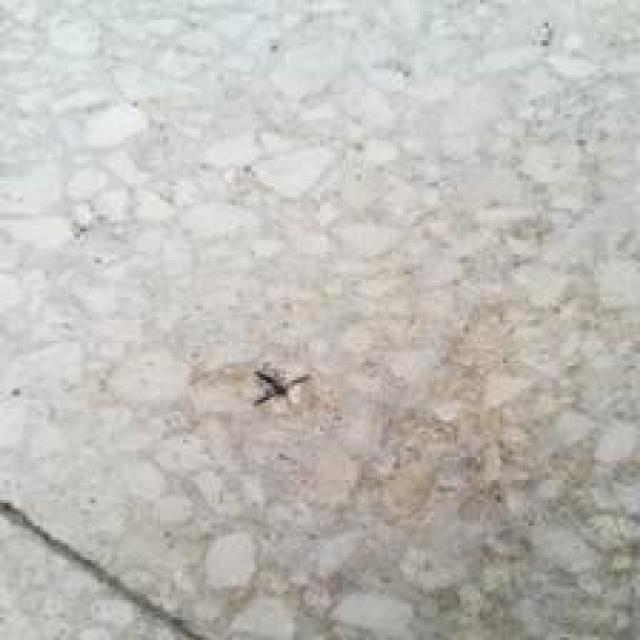Aedes albopictus: (252, 363, 312, 408)
